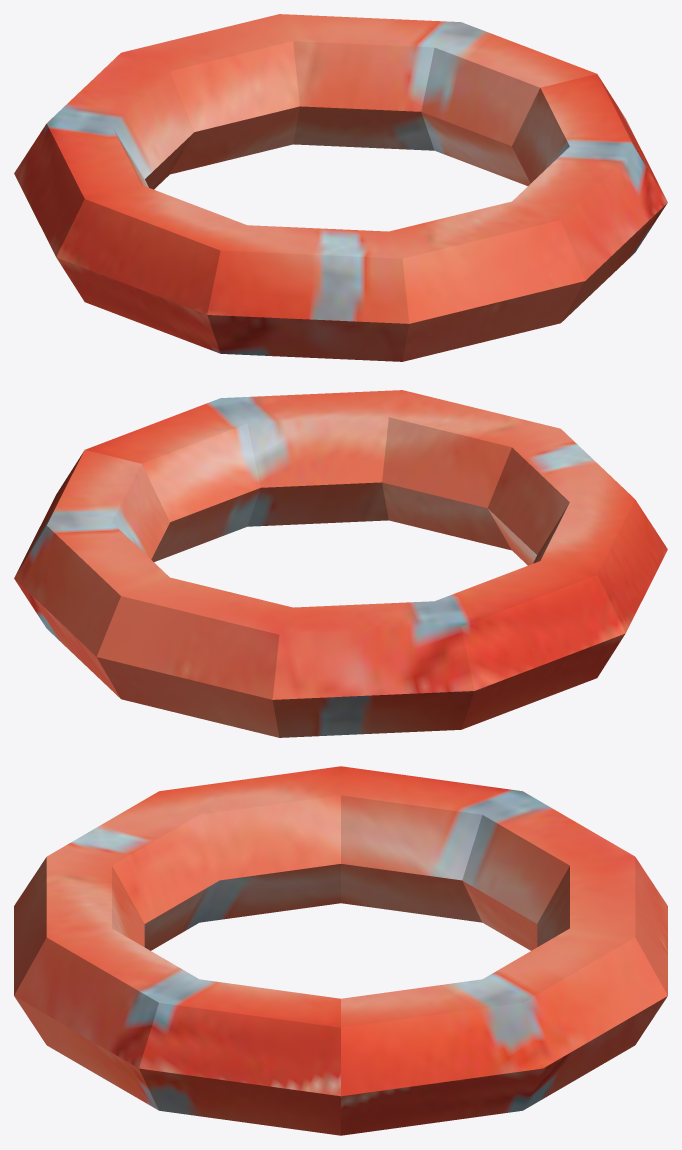
File: LifebuoyRing01.obj
The picture shows the model from 3 angles, top to bottom: view 1: azimuth 30°, elevation 25°; view 2: azimuth 150°, elevation 25°; view 3: azimuth 270°, elevation 25°; orthographic projection. The views are drawn at different scales.
Parts seen in each view (by area): view 1: LifebuoyRing01; view 2: LifebuoyRing01; view 3: LifebuoyRing01.
Part boxes in pixels (box(x1,y1,x2,y2)): LifebuoyRing01: box(14, 14, 667, 361); LifebuoyRing01: box(14, 390, 667, 737); LifebuoyRing01: box(14, 766, 667, 1135).
Size of the model in its own units: 1.25 by 0.2165 by 1.19.
